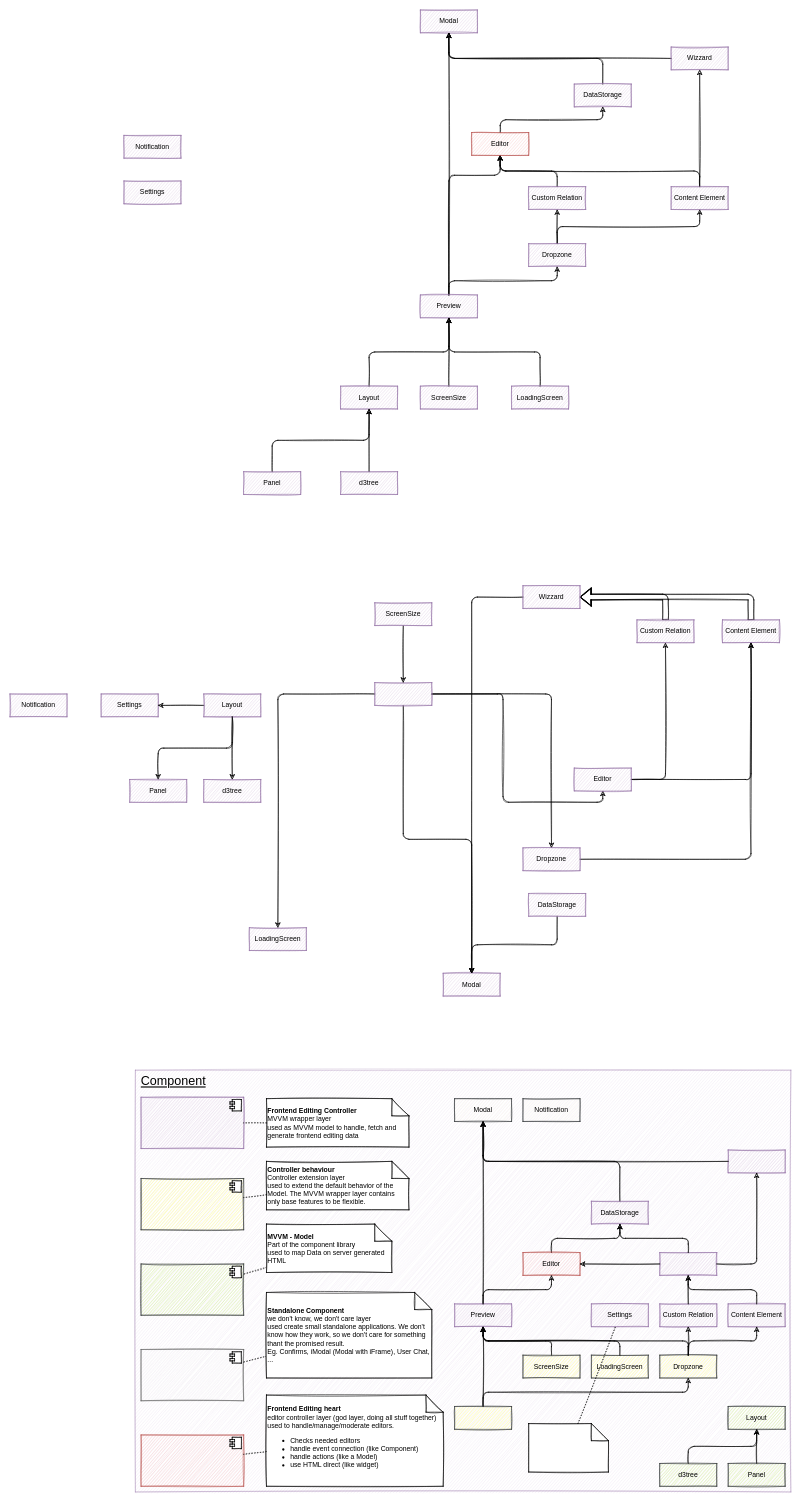
Image size: 801x1502. Some labels were removed from this diagram. The centre of each missing label's shape, as x and y in pixels:
Component + visible: boolean + type: string + description: int: (x=192, y=1289)
DnD Scroller: (x=483, y=1417)
EditableContent: (x=688, y=1263)
Editor + types: [string] + description: int + instances: [Editors]: (x=192, y=1460)
Everyone's darling used from everywhere: (x=568, y=1447)
Feature + config: object + context: object + enabled: boolean: (x=192, y=1204)
FormEngine Wizzard: (x=756, y=1161)
Iframe: (x=403, y=693)
Model + observers: [function] + data: object: (x=192, y=1123)
Widget + visible: boolean + description: int +: (x=192, y=1375)
